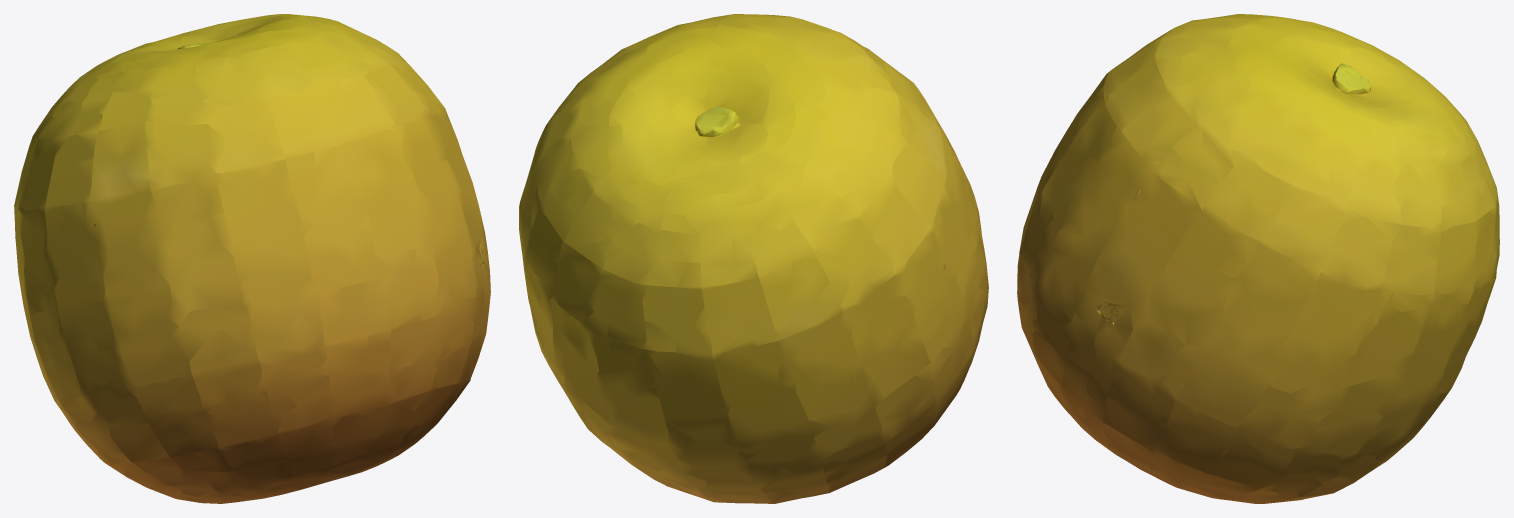
File: 0009_mask_010_orange.glb
3 renders of one model, left to right at view 1: azimuth 30°, elevation 25°; view 2: azimuth 150°, elevation 25°; view 3: azimuth 270°, elevation 25°, orthographic. The views are drawn at different scales.
Visible parts, largest first — view 1: mask_010_object; view 2: mask_010_object; view 3: mask_010_object.
Boxes of the visible parts, box(x1,y1,x2,y2) form: mask_010_object: box(14, 14, 490, 503); mask_010_object: box(519, 14, 988, 503); mask_010_object: box(1017, 14, 1499, 503).
Size of the model in its own units: 0.1187 by 0.124 by 0.1238.
